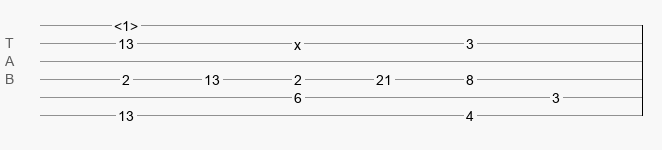13: (118, 108, 134, 118), (118, 36, 134, 46), (204, 72, 220, 82)
2: (122, 72, 130, 82), (294, 72, 302, 82)
21: (376, 72, 392, 82)
3: (466, 36, 474, 46), (552, 90, 560, 100)
4: (466, 108, 474, 118)
6: (294, 90, 302, 100)
8: (466, 72, 474, 82)
harmonic: (114, 18, 138, 28)
x: (294, 37, 301, 45)
